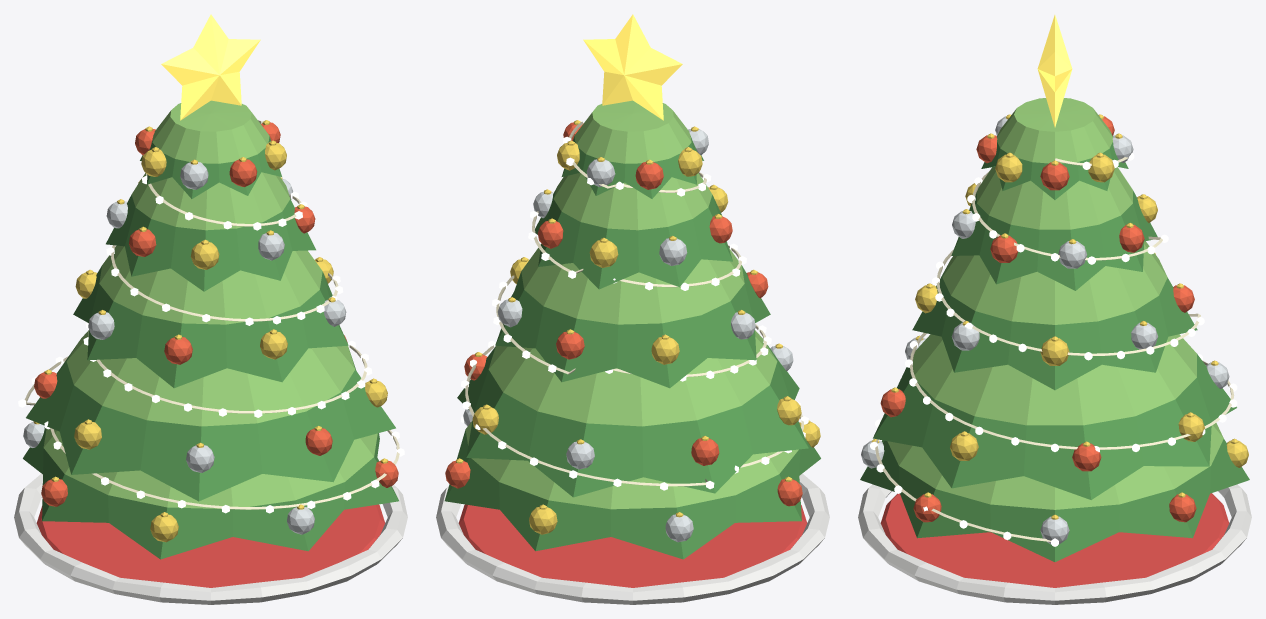
The model's file is XmasTree.glb.
3 views of the same model, side by side, from view 1: azimuth 30°, elevation 25°; view 2: azimuth 150°, elevation 25°; view 3: azimuth 270°, elevation 25° (orthographic).
Parts seen in each view (by area): view 1: Foliage, FoliageTop, Skirt, Fur, BaubleGold, BaubleRed, Star, BaubleSilver, Wire, Bulbs; view 2: Foliage, FoliageTop, Skirt, Fur, BaubleGold, Star, BaubleRed, BaubleSilver, Wire, Bulbs; view 3: Foliage, FoliageTop, Skirt, Fur, BaubleGold, BaubleRed, BaubleSilver, Wire, Bulbs, Star.
Boxes of the visible parts, x1,y1,x2,y2 form: Foliage: [23, 136, 398, 559]; FoliageTop: [43, 100, 377, 508]; Skirt: [36, 504, 385, 587]; Fur: [14, 473, 407, 604]; BaubleGold: [33, 120, 387, 542]; BaubleRed: [34, 122, 398, 506]; Star: [161, 14, 260, 120]; BaubleSilver: [23, 162, 346, 534]; Wire: [24, 120, 399, 509]; Bulbs: [18, 176, 404, 513]; Foliage: [444, 136, 820, 559]; FoliageTop: [465, 100, 798, 509]; Skirt: [458, 504, 807, 587]; Fur: [436, 473, 829, 604]; BaubleGold: [456, 120, 820, 534]; Star: [583, 14, 682, 120]; BaubleRed: [445, 122, 802, 506]; BaubleSilver: [463, 129, 793, 542]; Wire: [465, 121, 803, 486]; Bulbs: [461, 136, 808, 490]; Foliage: [860, 142, 1249, 561]; FoliageTop: [887, 98, 1223, 509]; Skirt: [880, 493, 1229, 587]; Fur: [858, 484, 1251, 604]; BaubleGold: [871, 114, 1248, 519]; BaubleRed: [880, 116, 1196, 522]; BaubleSilver: [861, 116, 1229, 544]; Wire: [875, 157, 1234, 541]; Bulbs: [870, 153, 1237, 546]; Star: [1037, 15, 1072, 127].
Bounding box in the file's own units: 21.55 × 30.74 × 21.48.
